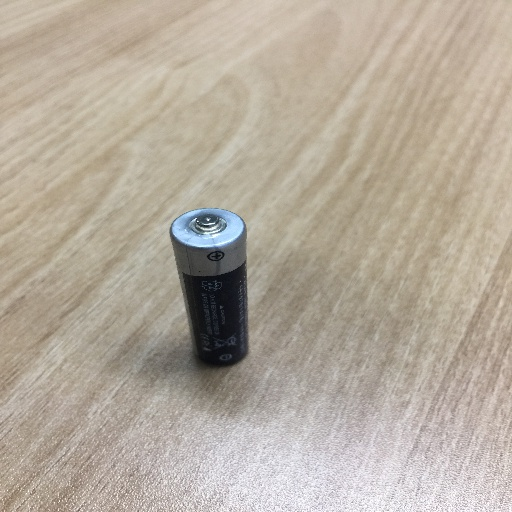Battery_0: (162, 197, 266, 381)
